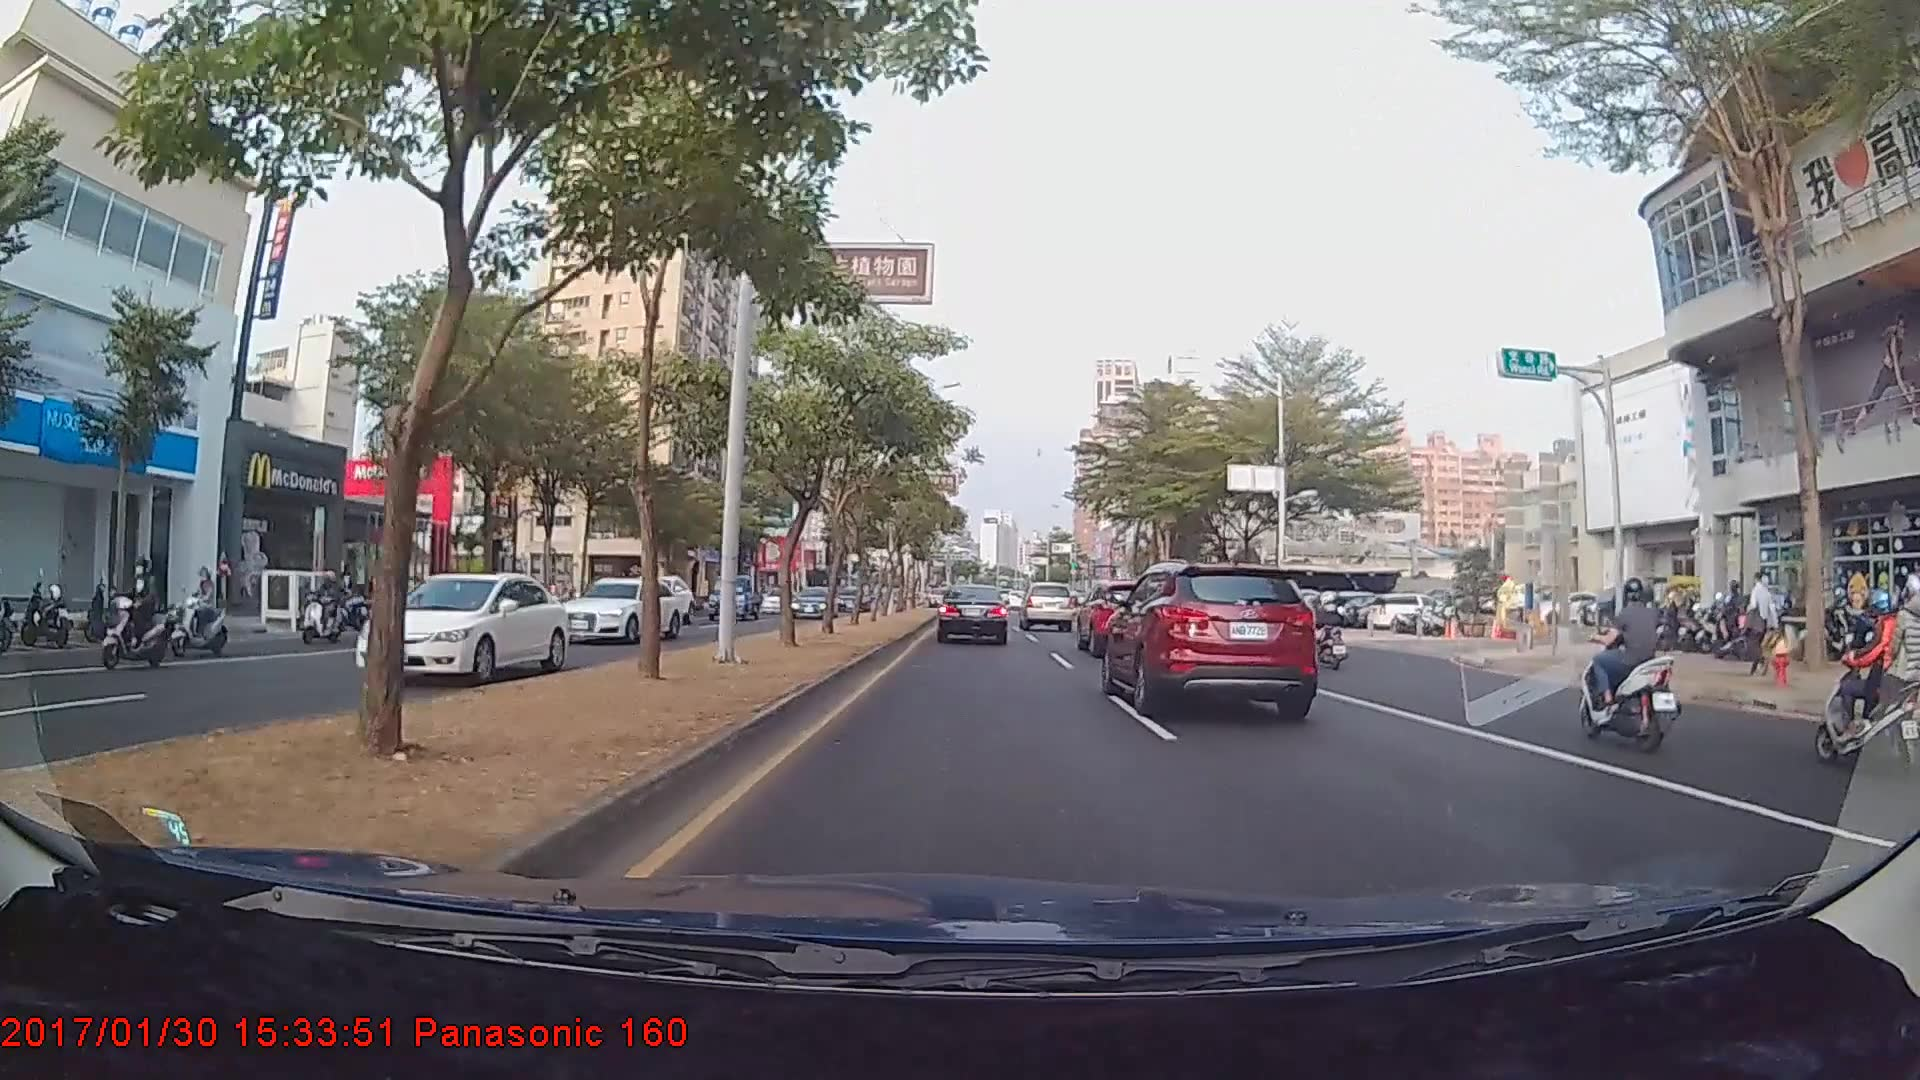pedestrian: (1744, 567, 1778, 672)
rider: (1567, 571, 1687, 751), (1810, 579, 1920, 776), (93, 549, 177, 674), (166, 561, 235, 654), (299, 566, 359, 645), (1300, 586, 1353, 667)
vehicle: (1104, 562, 1317, 712), (353, 569, 573, 685), (542, 576, 678, 642), (1073, 582, 1165, 654), (937, 582, 1008, 645), (1019, 580, 1077, 632), (706, 570, 760, 618), (789, 586, 835, 617)
